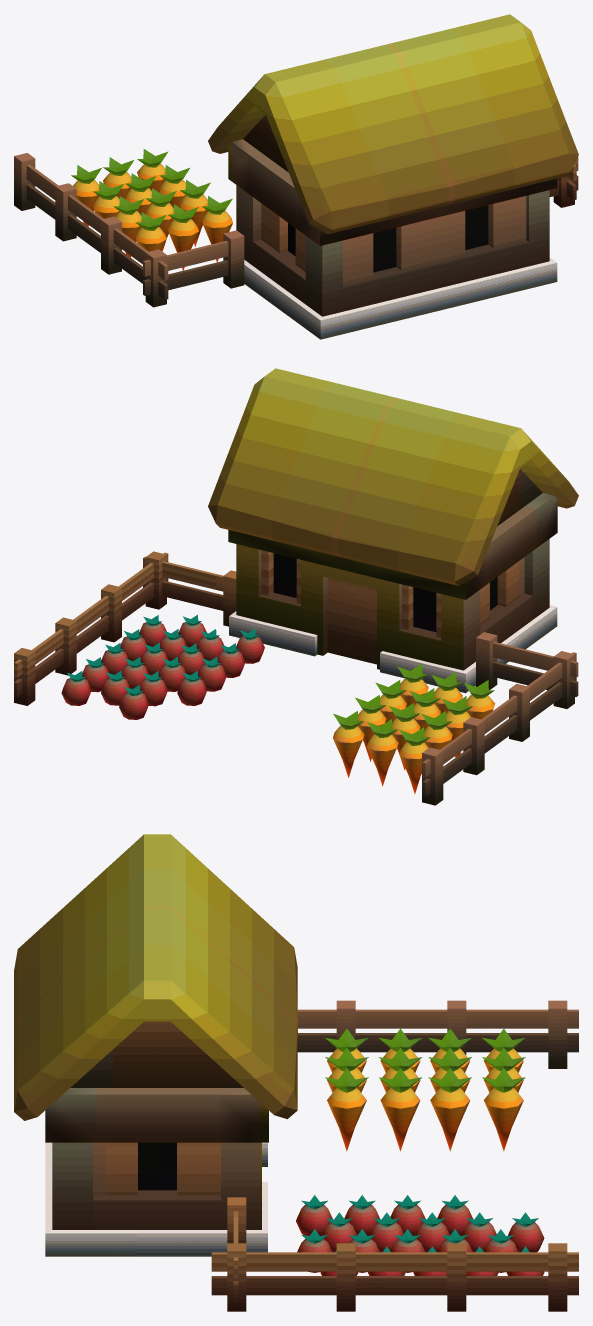
The model's file is simple_low_poly_farm_lvl2.glb.
The picture shows the model from 3 angles, top to bottom: view 1: azimuth 30°, elevation 25°; view 2: azimuth 150°, elevation 25°; view 3: azimuth 270°, elevation 25°; orthographic projection. The views are drawn at different scales.
Visible parts, largest first — view 1: farm_lvl2_Material #25_0; view 2: farm_lvl2_Material #25_0; view 3: farm_lvl2_Material #25_0.
Part boxes in pixels (left/top/right/bottom): farm_lvl2_Material #25_0: left=14, top=14, right=578, bottom=339; farm_lvl2_Material #25_0: left=14, top=368, right=578, bottom=805; farm_lvl2_Material #25_0: left=14, top=834, right=578, bottom=1311.
Size of the model in its own units: 6.43 by 3.52 by 5.96.
Materials: 1 (1 with a texture image).
